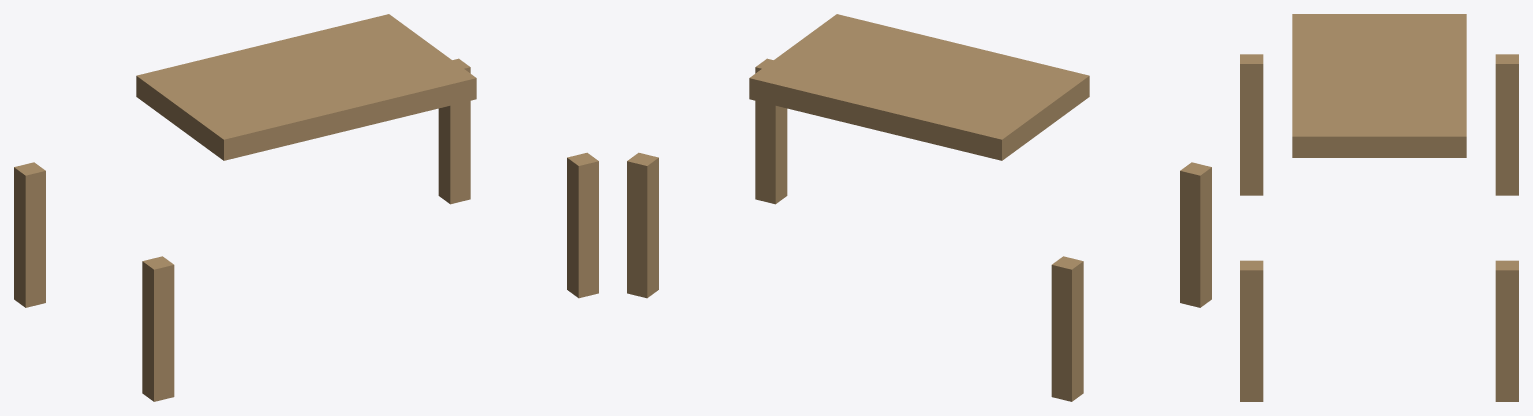
The model's file is workbench.dae.
3 views of the same model, side by side, from view 1: azimuth 30°, elevation 25°; view 2: azimuth 150°, elevation 25°; view 3: azimuth 270°, elevation 25° (orthographic).
Parts seen in each view (by area): view 1: Cube, Cube.004, Cube.003, Cube.002, Cube.001; view 2: Cube, Cube.002, Cube.001, Cube.004, Cube.003; view 3: Cube, Cube.004, Cube.002, Cube.003, Cube.001.
Part boxes in pixels (box(x1,y1,x2,y2)): Cube: box(136, 14, 476, 160); Cube.004: box(142, 256, 174, 401); Cube.003: box(567, 152, 598, 298); Cube.002: box(14, 162, 45, 307); Cube.001: box(438, 58, 470, 204); Cube: box(749, 14, 1089, 160); Cube.002: box(1051, 256, 1083, 401); Cube.001: box(627, 152, 658, 298); Cube.004: box(1180, 162, 1211, 307); Cube.003: box(755, 58, 787, 204); Cube: box(1292, 14, 1466, 157); Cube.004: box(1240, 54, 1263, 195); Cube.002: box(1495, 54, 1518, 195); Cube.003: box(1240, 260, 1263, 401); Cube.001: box(1495, 260, 1518, 401).
Bounding box in the file's own units: 88 × 48 × 41.5.
